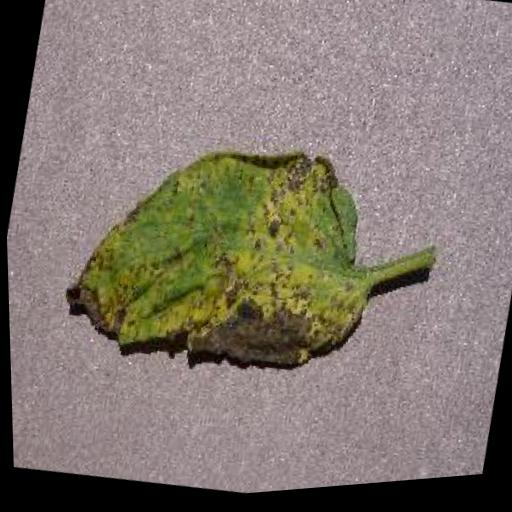Septoria: (50, 112, 392, 406)
